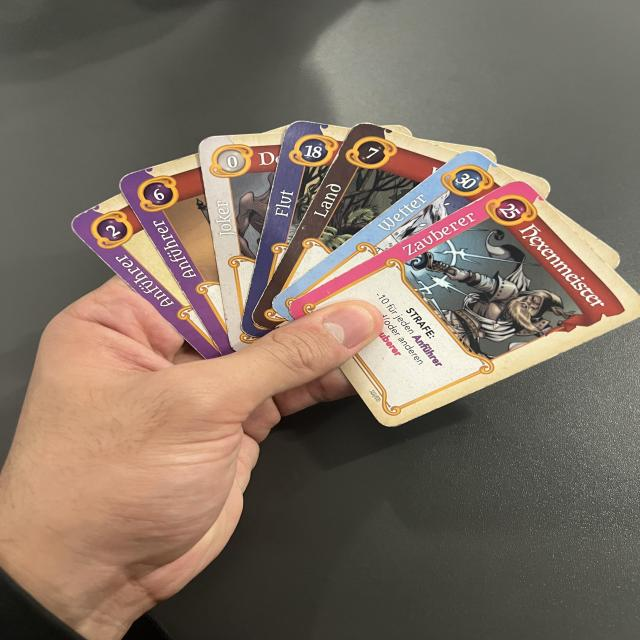Blizzard: (269, 148, 518, 325)
Doppelganger: (195, 132, 284, 355)
Forest: (249, 122, 463, 331)
Princess: (66, 193, 223, 360)
Queen: (112, 153, 233, 359)
Swamp: (237, 120, 351, 338)
Warlock Lord: (285, 179, 640, 432)
